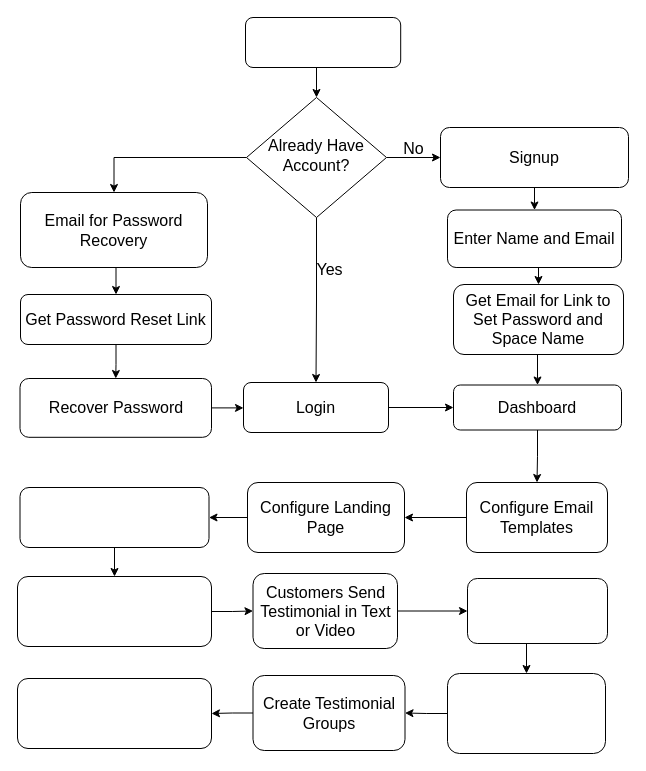
Some shapes in this 646 by 771 pixel diagram are drawn without their labels. Here are the shapes that lost their labels. From the top down, the box of each, then its label:
(244, 16, 401, 68): User Opens the System
(19, 486, 209, 548): Add Customer
(16, 576, 212, 646): Send Testimonial Email with Link to Customers
(466, 578, 608, 644): Testimonials from Customers received
(16, 678, 212, 748): Get Embed Code as per Groups and Use Them in Any Platforms
(446, 672, 606, 754): Set Selected Testimonial's Status to Published
